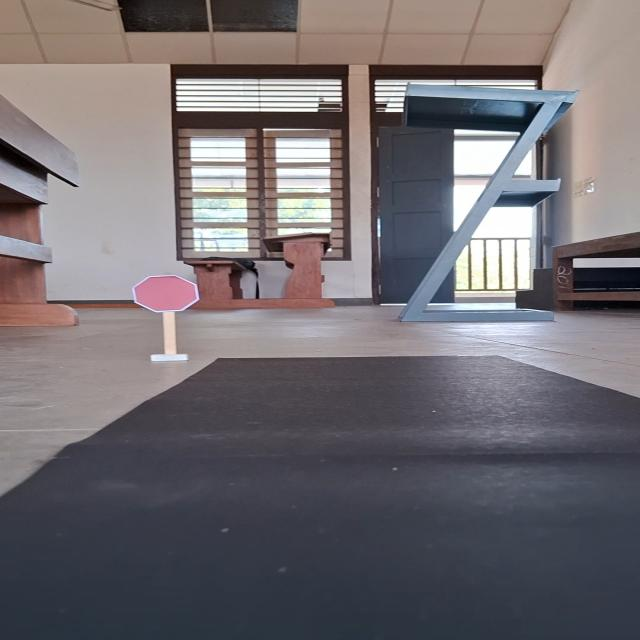Stop: (130, 274, 200, 312)
